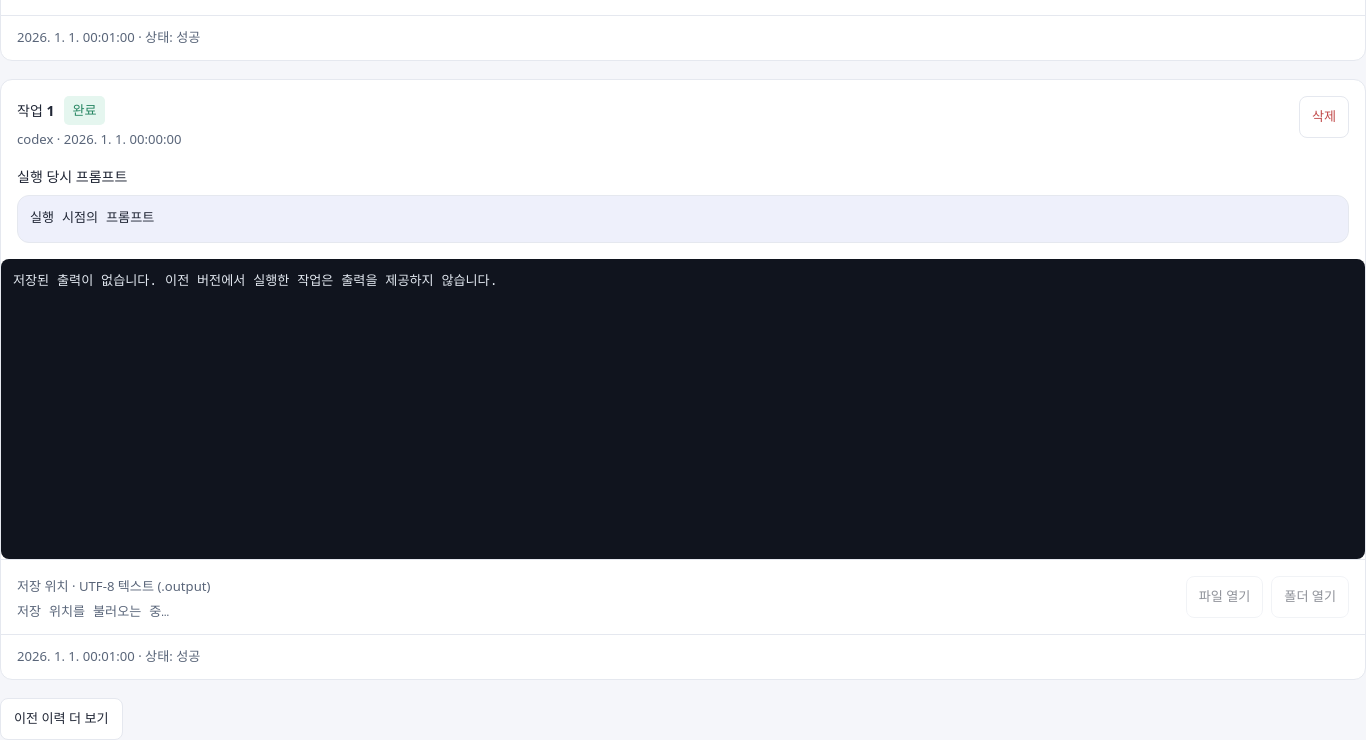
Scenario: 오래된 이력의 출력을 한꺼번에 불러오지 않고 더 보기로 표시한다
This screenshot has width=1366, height=740.
(page scrolled)
Step 1. Click the button "이전 이력 더 보기" → (61, 719), box [0,698,123,739]
(page scrolled)
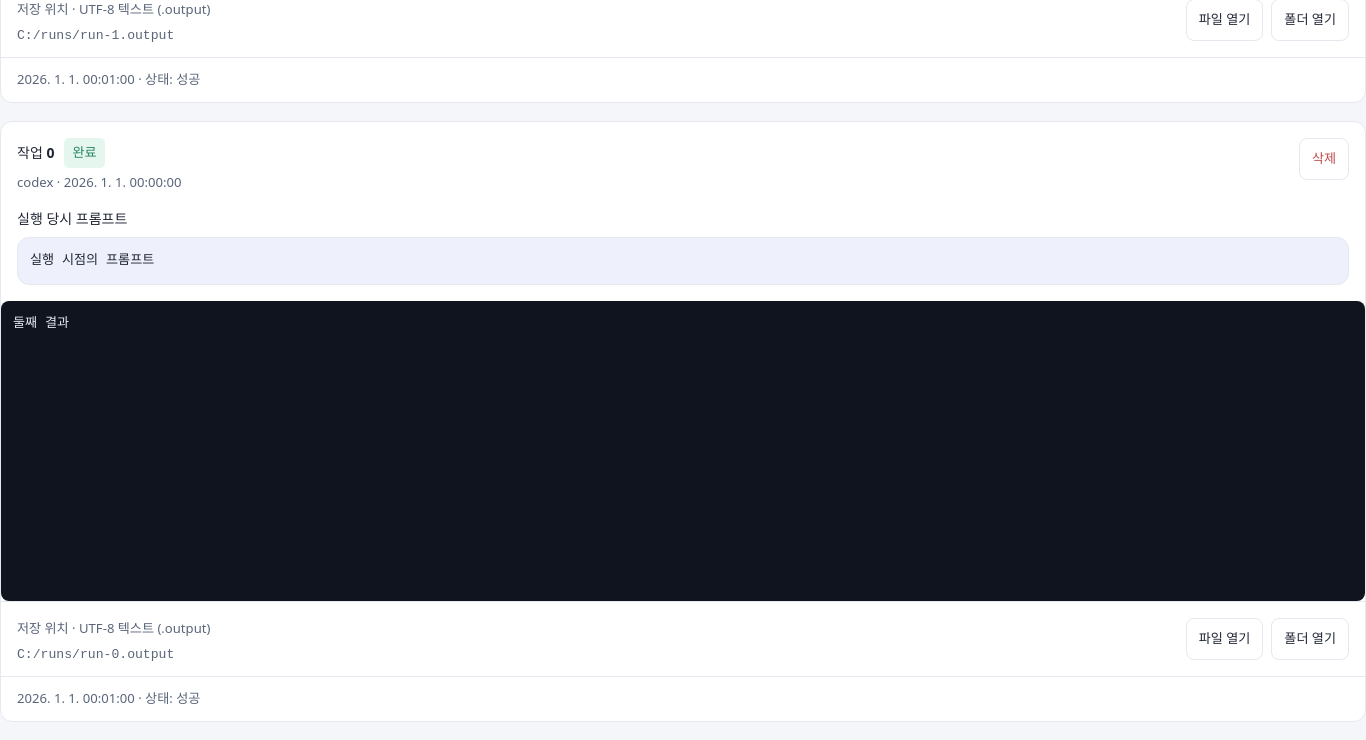
Expected: the text named "작업 0 출력" is shown, [1,301,1365,601]
